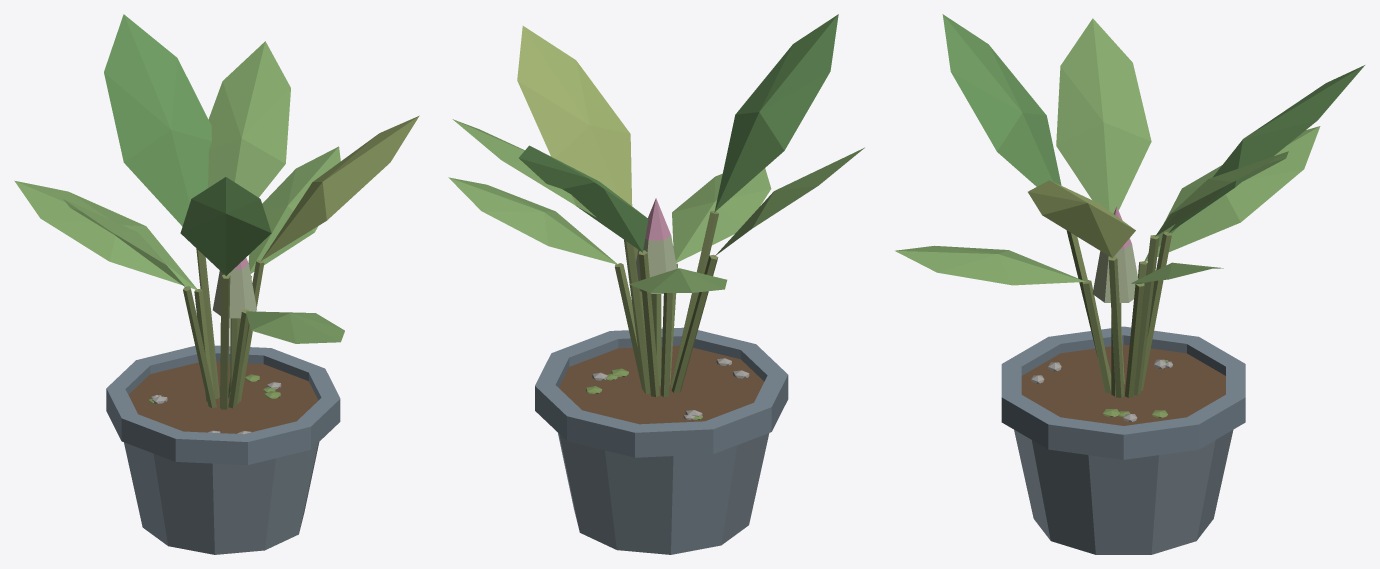
Rendered from turmeric.glb.
The picture shows the model from 3 angles, left to right: view 1: azimuth 30°, elevation 25°; view 2: azimuth 150°, elevation 25°; view 3: azimuth 270°, elevation 25°; orthographic projection. The views are drawn at different scales.
Parts seen in each view (by area): view 1: plant, pot; view 2: plant, pot; view 3: plant, pot.
Part boxes in pixels (x1=…): plant: x1=14, y1=14, x2=419, y2=409; pot: x1=106, y1=345, x2=340, y2=554; plant: x1=448, y1=14, x2=864, y2=397; pot: x1=535, y1=327, x2=788, y2=554; plant: x1=895, y1=14, x2=1364, y2=397; pot: x1=1001, y1=326, x2=1245, y2=554.
Bounding box in the file's own units: 0.6117 × 0.7357 × 0.6801.
